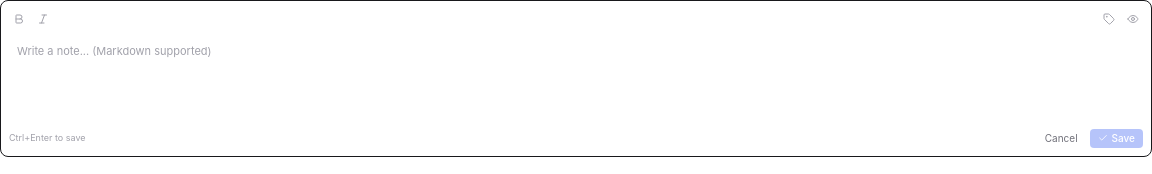
Test: NoteEditor › toolbar buttons › wraps selected text with bold markers
Type "Hello world" into the text box with placeholder "Write a note... (Markdown supported)" at (576, 79), box [9, 37, 1143, 120]
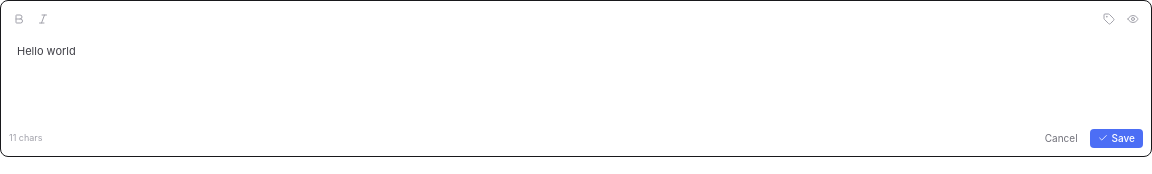
Click the button titled "Bold" at (19, 19), box [9, 9, 29, 29]
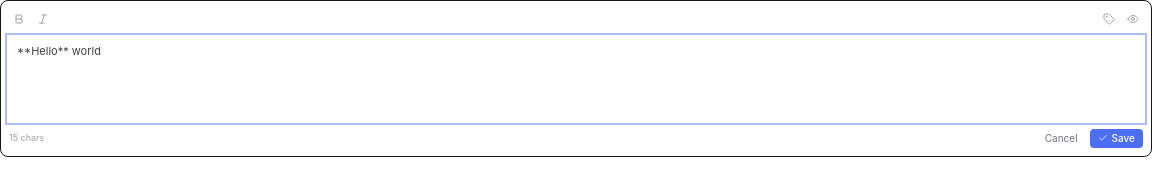
expect the text box with placeholder "Write a note... (Markdown supported)" holds "**Hello** world": met, box [9, 37, 1143, 120]
